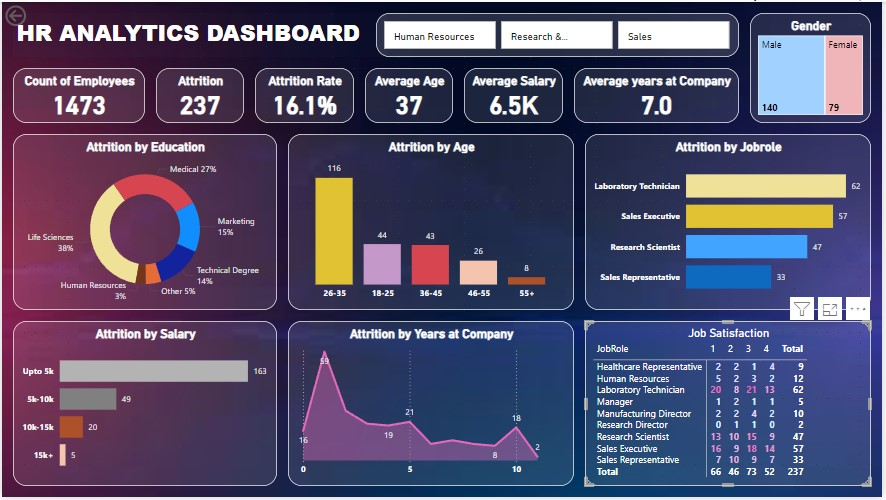

What the dashboard file says about the page in this screenshot:
{"tool":"powerbi","page":{"name":"Page 1","canvas":[1280,720],"ordinal":0},"visuals":[{"type":"card","title":"Count of Employees","fields":{"Values":["CountNonNull(HR_Analytics.EmpID)"]},"box":[16,96,192,80],"z":0},{"type":"card","title":"Attrition","fields":{"Values":["Sum(HR_Analytics.AttritionCount)"]},"box":[224,96,128,80],"z":1000},{"type":"card","title":"Attrition Rate","fields":{"Values":["HR_Analytics.AttritionRate"]},"box":[368,96,144,80],"z":2000},{"type":"card","title":"Average Age","fields":{"Values":["Avg(HR_Analytics.Age)"]},"box":[528,96,128,80],"z":3000},{"type":"card","title":"Average Salary","fields":{"Values":["Avg(HR_Analytics.MonthlyIncome)"]},"box":[672,96,144,80],"z":4000},{"type":"card","title":"Average years at Company","fields":{"Values":["Avg(HR_Analytics.YearsAtCompany)"]},"box":[832,96,240,80],"z":5000},{"type":"donutChart","title":"Attrition by Education","fields":{"Category":["HR_Analytics.EducationField"],"Y":["Sum(HR_Analytics.AttritionCount)"]},"box":[16,192,384,256],"z":6000},{"type":"columnChart","title":"Attrition by Age","fields":{"Y":["Sum(HR_Analytics.AttritionCount)"],"Category":["HR_Analytics.AgeGroup"]},"box":[416,192,416,256],"z":7000},{"type":"pivotTable","title":"Job Satisfaction","fields":{"Rows":["HR_Analytics.JobRole"],"Columns":["HR_Analytics.JobSatisfaction"],"Values":["Sum(HR_Analytics.AttritionCount)"]},"box":[848,464,416,240],"z":8000},{"type":"actionButton","box":[0,0,100,40],"z":9000},{"type":"barChart","title":"Attrition by Salary","fields":{"Category":["HR_Analytics.SalarySlab"],"Y":["Sum(HR_Analytics.AttritionCount)"]},"box":[16,464,384,240],"z":10000},{"type":"barChart","title":"Attrition by Jobrole","fields":{"Y":["Sum(HR_Analytics.AttritionCount)"],"Category":["HR_Analytics.JobRole"]},"box":[848,192,416,256],"z":11000},{"type":"areaChart","title":"Attrition by Years at Company","fields":{"Category":["HR_Analytics.YearsAtCompany"],"Y":["Sum(HR_Analytics.AttritionCount)"]},"box":[416,464,416,240],"z":12000},{"type":"treemap","title":"Gender","fields":{"Group":["HR_Analytics.Gender"],"Values":["Sum(HR_Analytics.AttritionCount)"]},"box":[1088,16,176,160],"z":13000},{"type":"advancedSlicerVisual","fields":{"Values":["HR_Analytics.Department"]},"box":[544,16,528,64],"z":14000},{"type":"textbox","box":[16,16,544,64],"z":15000}]}

Visuals, with their boxes in screenshot pixels (x1, y1, x2, y2), scaled from the page's 1280x720 canvas onto the 886x500 screenshot:
"Count of Employees" card: detection(11, 67, 144, 122)
"Attrition" card: detection(155, 67, 244, 122)
"Attrition Rate" card: detection(255, 67, 354, 122)
"Average Age" card: detection(365, 67, 454, 122)
"Average Salary" card: detection(465, 67, 565, 122)
"Average years at Company" card: detection(576, 67, 742, 122)
"Attrition by Education" donutChart: detection(11, 133, 277, 311)
"Attrition by Age" columnChart: detection(288, 133, 576, 311)
"Job Satisfaction" pivotTable: detection(587, 322, 875, 489)
actionButton: detection(0, 0, 69, 28)
"Attrition by Salary" barChart: detection(11, 322, 277, 489)
"Attrition by Jobrole" barChart: detection(587, 133, 875, 311)
"Attrition by Years at Company" areaChart: detection(288, 322, 576, 489)
"Gender" treemap: detection(753, 11, 875, 122)
advancedSlicerVisual - HR_Analytics.Department: detection(377, 11, 742, 56)
textbox: detection(11, 11, 388, 56)
